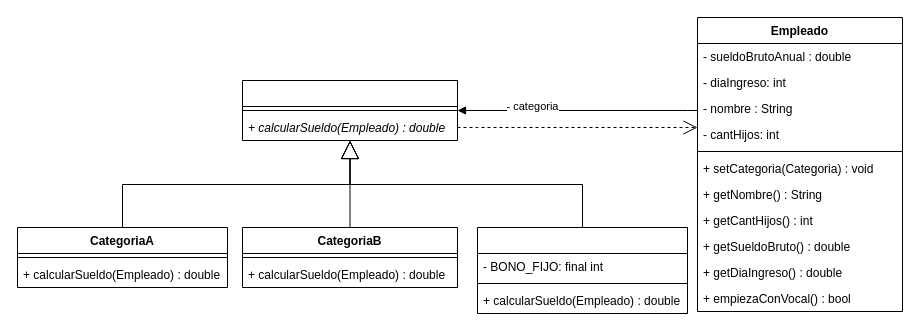
The diagram is 920 pixels wide and 334 high, and some of its shapes have lost their labels. The shapes that lost their labels are listed below. From the top down, each one's box as (x1, y1, x2, y2) in pixels, then its label:
(242, 80, 458, 140): Categoria
(476, 226, 688, 314): CategoriaC
